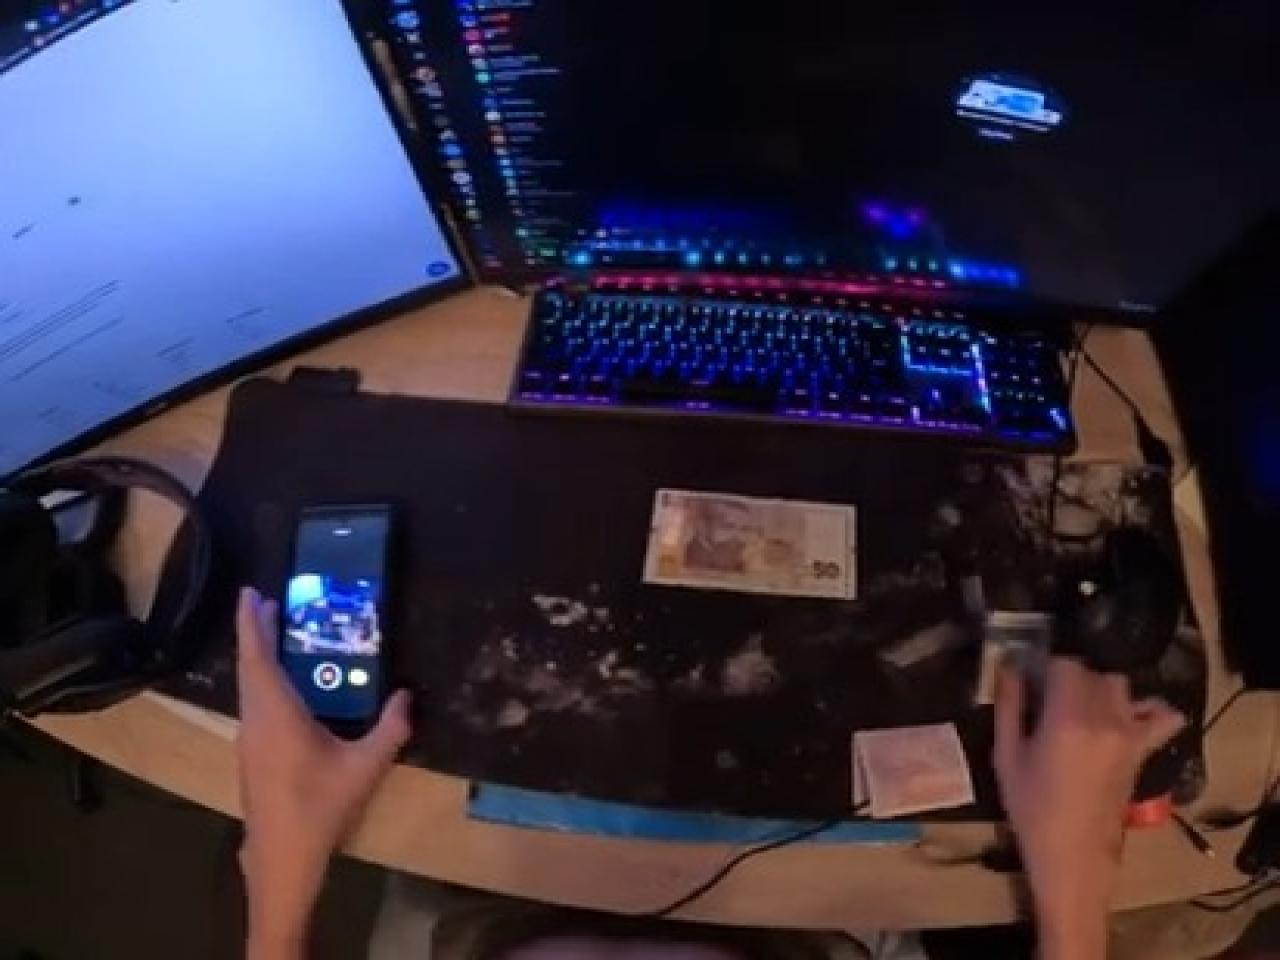50leva: (637, 488, 864, 611)
